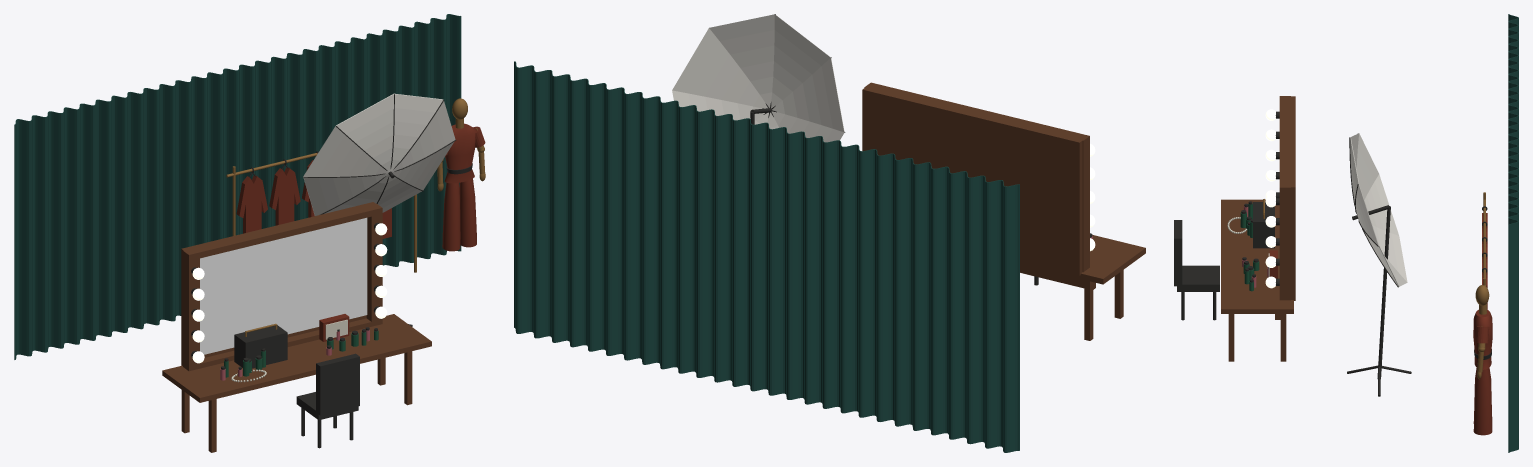
3 views of the same model, side by side, from view 1: azimuth 30°, elevation 25°; view 2: azimuth 150°, elevation 25°; view 3: azimuth 270°, elevation 25° (orthographic). The views are drawn at different scales.
Visible parts, largest first — view 1: MIRROR_surface, UMBRELLA_finite_canopy_proxy, TABLE_top, CURTAIN_fold_proxy_0, CURTAIN_fold_proxy_1, CURTAIN_fold_proxy_5, CURTAIN_fold_proxy_4, CURTAIN_fold_proxy_7, CURTAIN_fold_proxy_8, CURTAIN_fold_proxy_2, CURTAIN_fold_proxy_3, CURTAIN_fold_proxy_6 (+34 smaller); view 2: MIRROR_backboard_inferred, UMBRELLA_finite_canopy_proxy, CURTAIN_fold_proxy_4, CURTAIN_fold_proxy_19, CURTAIN_fold_proxy_14, CURTAIN_fold_proxy_24, CURTAIN_fold_proxy_6, CURTAIN_fold_proxy_2, CURTAIN_fold_proxy_1, CURTAIN_fold_proxy_5, CURTAIN_fold_proxy_16, CURTAIN_fold_proxy_26 (+21 smaller); view 3: TABLE_top, UMBRELLA_finite_canopy_proxy, CURTAIN_fold_proxy_27, MIRROR_frame_1, MANNEQUIN_red_bifurcated_lower_proxy_1, CHAIR_seat_proxy, MIRROR_backboard_inferred, MIRROR_frame_horizontal_2.31, COSMETIC_case_body, MANNEQUIN_red_upper_clothing_proxy, UMBRELLA_stand_inferred, CHAIR_back_proxy.
Boxes of the visible parts, <box> form: MIRROR_surface: <box>200,217,367,354</box>; UMBRELLA_finite_canopy_proxy: <box>303,93,455,215</box>; TABLE_top: <box>162,314,431,402</box>; CURTAIN_fold_proxy_0: <box>14,119,30,359</box>; CURTAIN_fold_proxy_1: <box>30,115,46,355</box>; CURTAIN_fold_proxy_5: <box>94,99,110,340</box>; CURTAIN_fold_proxy_4: <box>78,103,94,344</box>; CURTAIN_fold_proxy_7: <box>126,92,142,332</box>; CURTAIN_fold_proxy_8: <box>142,88,158,328</box>; CURTAIN_fold_proxy_2: <box>46,111,62,351</box>; CURTAIN_fold_proxy_3: <box>62,107,78,347</box>; CURTAIN_fold_proxy_6: <box>110,95,126,336</box>; MIRROR_backboard_inferred: <box>862,87,1082,275</box>; UMBRELLA_finite_canopy_proxy: <box>672,14,844,142</box>; CURTAIN_fold_proxy_4: <box>929,162,947,435</box>; CURTAIN_fold_proxy_19: <box>658,96,676,369</box>; CURTAIN_fold_proxy_14: <box>748,118,766,391</box>; CURTAIN_fold_proxy_24: <box>568,74,586,347</box>; CURTAIN_fold_proxy_6: <box>893,153,911,426</box>; CURTAIN_fold_proxy_2: <box>965,171,983,444</box>; CURTAIN_fold_proxy_1: <box>983,176,1001,448</box>; CURTAIN_fold_proxy_5: <box>911,158,929,430</box>; CURTAIN_fold_proxy_16: <box>712,109,730,382</box>; CURTAIN_fold_proxy_26: <box>532,65,550,338</box>; TABLE_top: <box>1221,199,1293,313</box>; UMBRELLA_finite_canopy_proxy: <box>1350,133,1407,286</box>; CURTAIN_fold_proxy_27: <box>1508,217,1518,452</box>; MIRROR_frame_1: <box>1279,182,1290,300</box>; MANNEQUIN_red_bifurcated_lower_proxy_1: <box>1473,368,1492,435</box>; CHAIR_seat_proxy: <box>1177,265,1219,291</box>; MIRROR_backboard_inferred: <box>1289,96,1295,300</box>; MIRROR_frame_horizontal_2.31: <box>1279,101,1290,182</box>; COSMETIC_case_body: <box>1253,202,1274,248</box>; MANNEQUIN_red_upper_clothing_proxy: <box>1473,310,1492,369</box>; UMBRELLA_stand_inferred: <box>1377,206,1390,378</box>; CHAIR_back_proxy: <box>1174,220,1182,286</box>.
Bounding box in the file's own units: 6.29 × 3.34 × 4.25.
